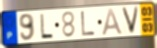8: (61, 11, 76, 38)
9: (19, 13, 37, 43)
A: (101, 8, 125, 37)
L: (80, 10, 97, 37), (39, 12, 55, 39)
V: (120, 6, 141, 36)
